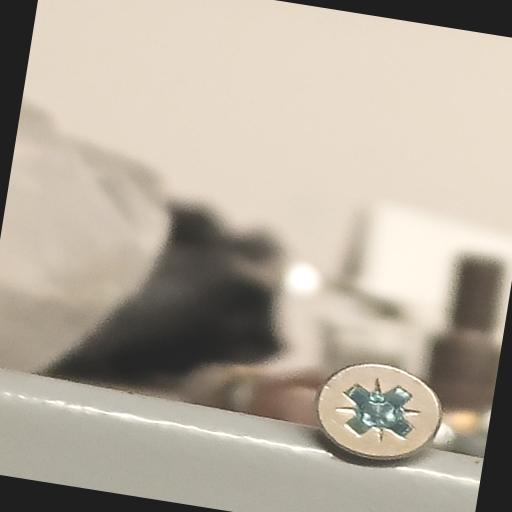Pozidriv: (294, 346, 464, 486)
